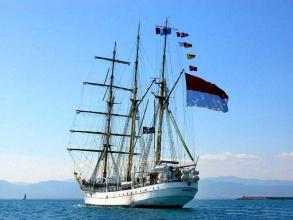fanchuan: (63, 9, 231, 207)
